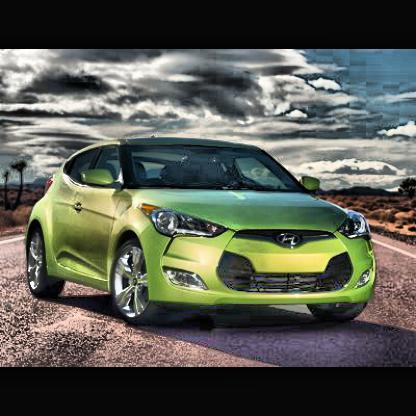Hyundai Veloster Hatchback 2012: (24, 132, 379, 327)
